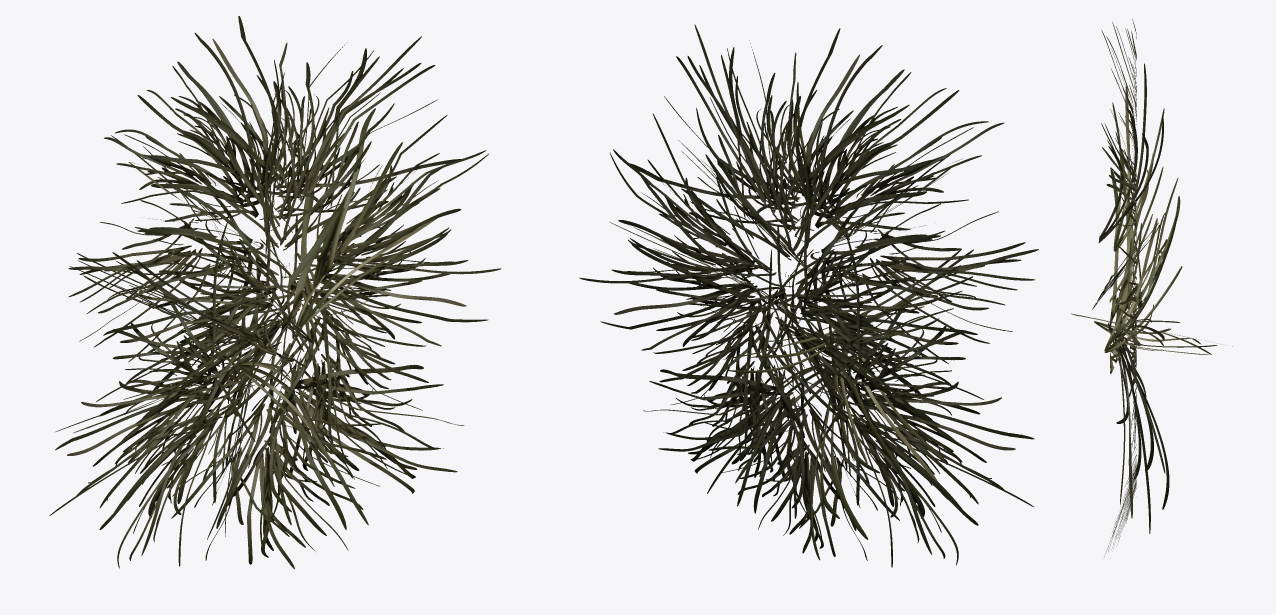
The model's file is TI_Grass_05_01_b_2S.fbx.
3 renders of one model, left to right at view 1: azimuth 30°, elevation 25°; view 2: azimuth 150°, elevation 25°; view 3: azimuth 270°, elevation 25°, orthographic. The views are drawn at different scales.
Parts seen in each view (by area): view 1: TI_Grass_05_01_b_2S; view 2: TI_Grass_05_01_b_2S; view 3: TI_Grass_05_01_b_2S.
Boxes of the visible parts, x1,y1,x2,y2 form: TI_Grass_05_01_b_2S: (49,16,501,569); TI_Grass_05_01_b_2S: (579,24,1038,567); TI_Grass_05_01_b_2S: (1071,18,1232,556).
Bounding box in the file's own units: 2.37 × 2.68 × 0.9081.
